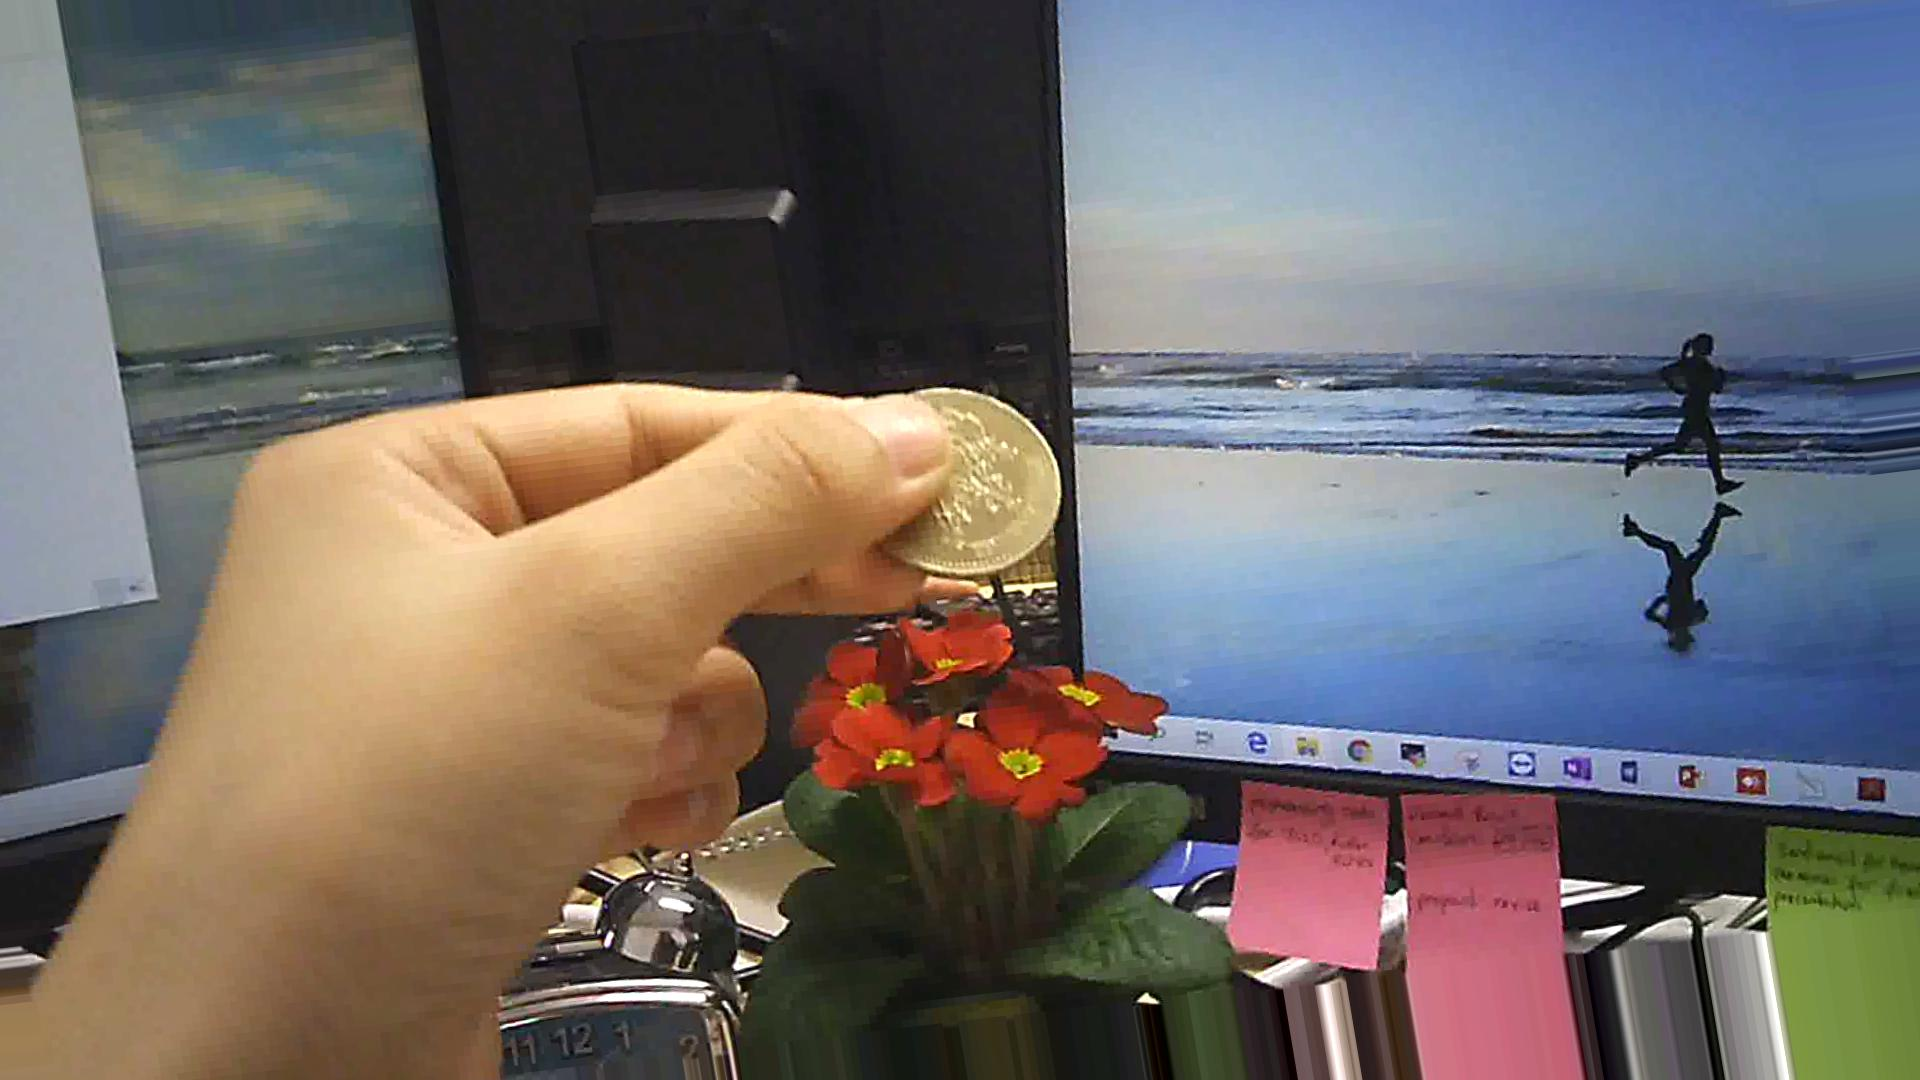500 Yen: (885, 376, 1073, 580)
